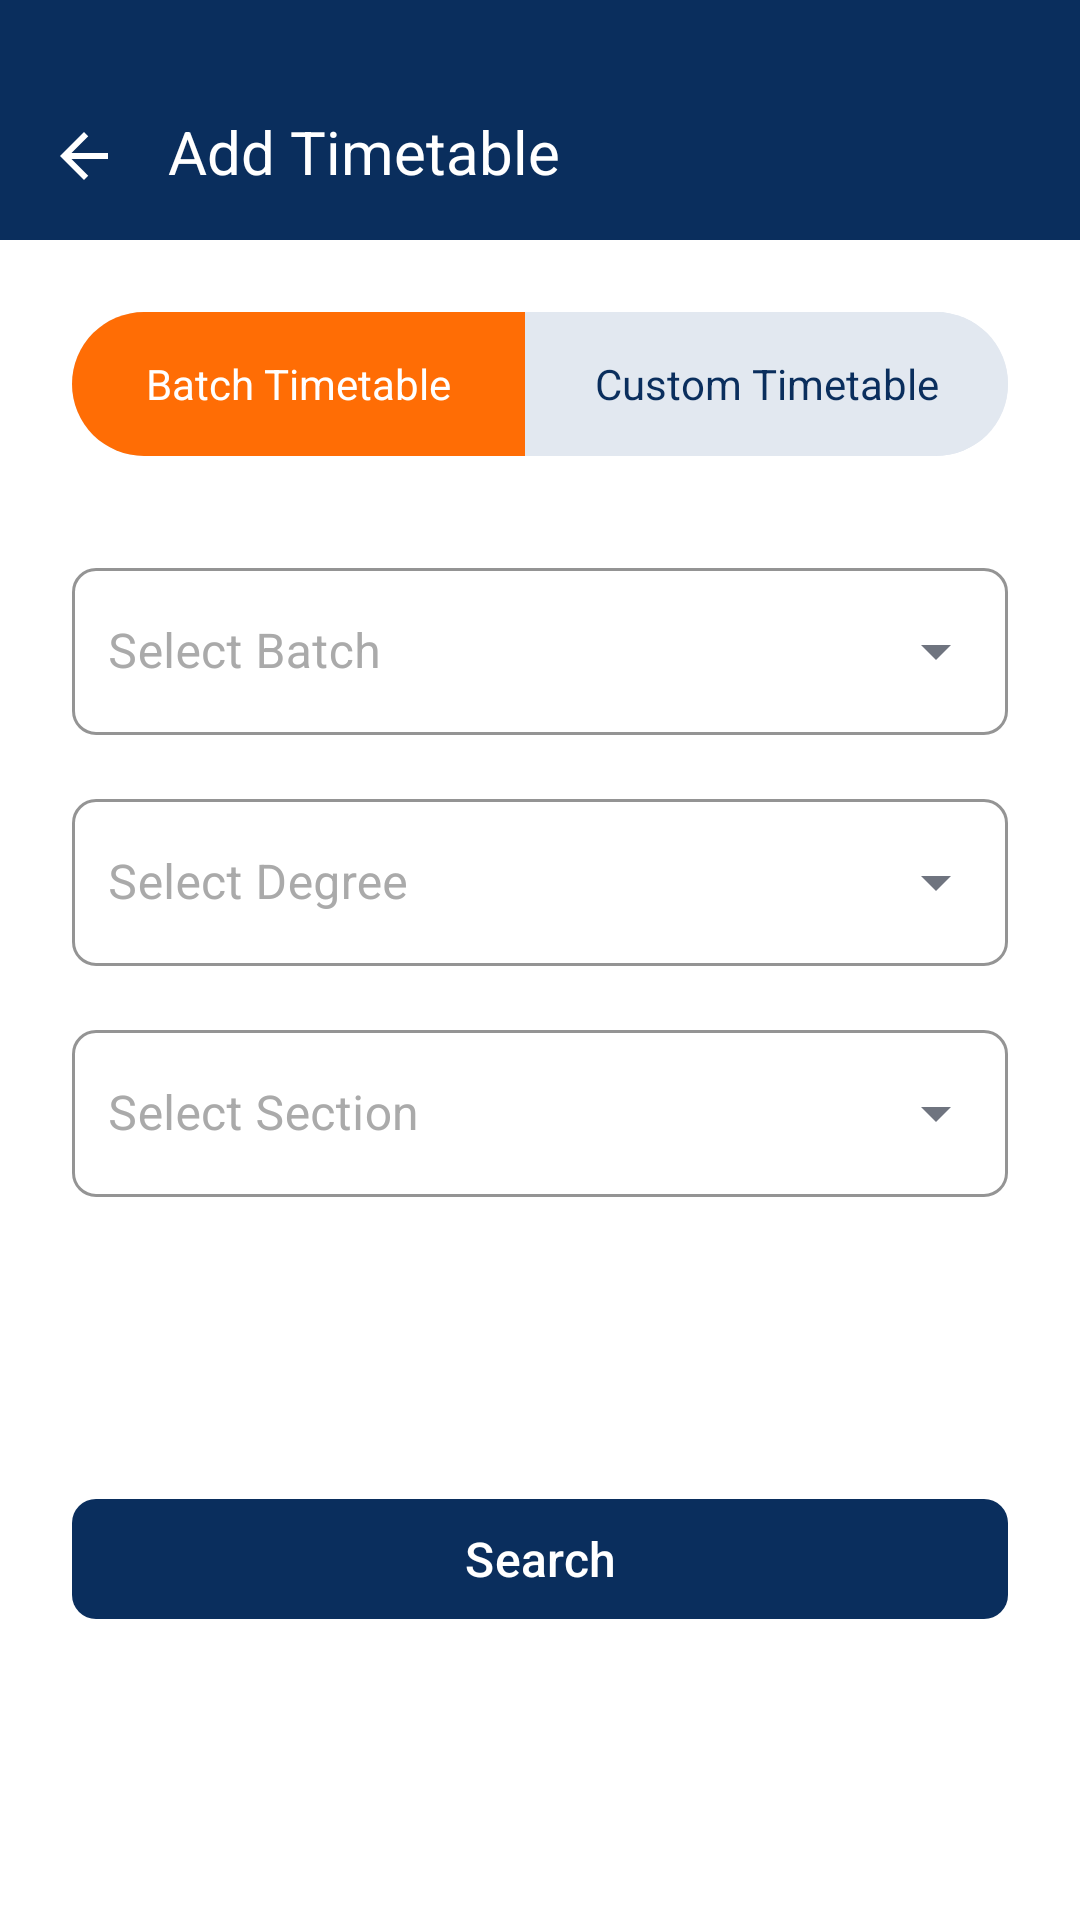

Icon click points for this 1080px×1920px phone screenshot, format point (x, y):
arrow back: point (84, 156)
